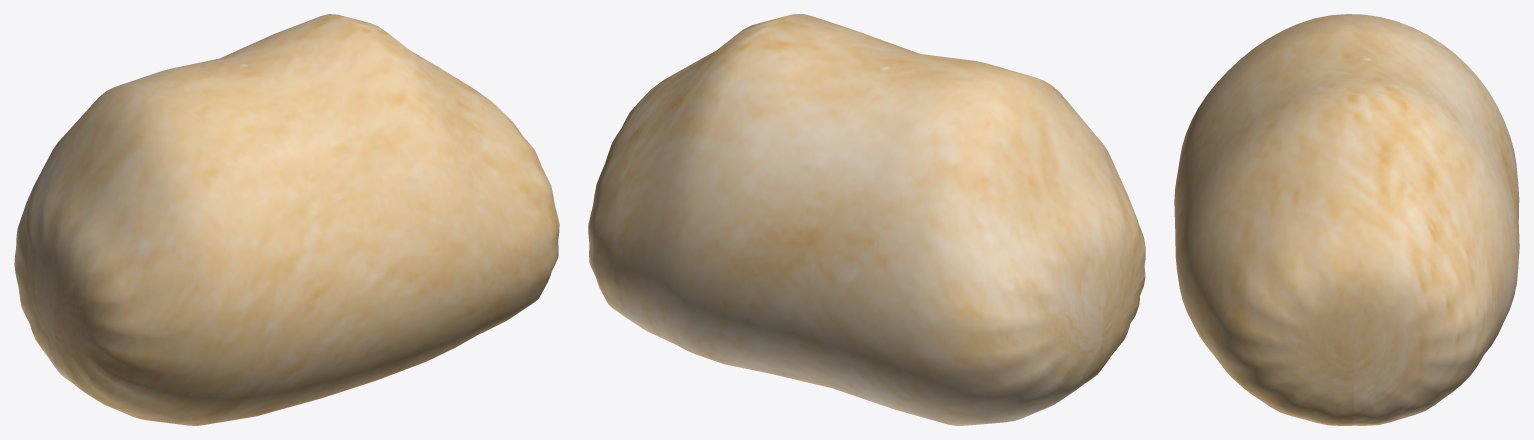
The model's file is CutDough2.fbx.
3 renders of one model, left to right at view 1: azimuth 30°, elevation 25°; view 2: azimuth 150°, elevation 25°; view 3: azimuth 270°, elevation 25°, orthographic. The views are drawn at different scales.
Visible parts, largest first — view 1: cut5; view 2: cut5; view 3: cut5.
Part boxes in pixels (<box>): cut5: <box>14,14,559,425</box>; cut5: <box>588,14,1145,425</box>; cut5: <box>1174,14,1519,425</box>.
Size of the model in its own units: 4.3 by 2.94 by 2.99.
Materials: 1 (1 with a texture image).
